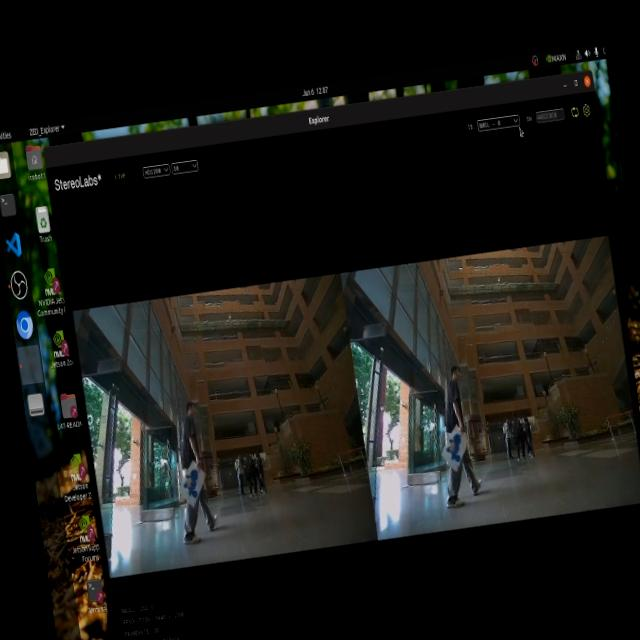blue: (177, 466, 208, 506), (441, 431, 464, 468)
